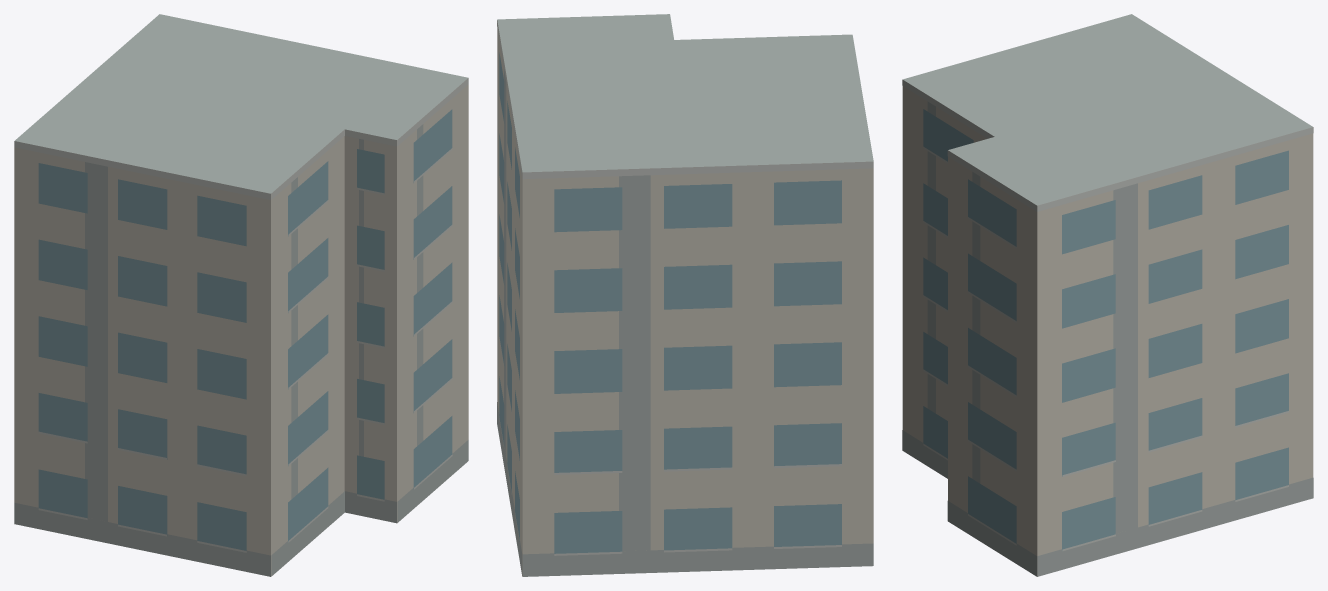
The model's file is survey-upis-32802304.glb.
3 renders of one model, left to right at view 1: azimuth 30°, elevation 25°; view 2: azimuth 150°, elevation 25°; view 3: azimuth 270°, elevation 25°, orthographic. The views are drawn at different scales.
Parts seen in each view (by area): view 1: survey-upis-32802304.tmp; view 2: survey-upis-32802304.tmp; view 3: survey-upis-32802304.tmp.
Part boxes in pixels (x1,y1,x2,y2): survey-upis-32802304.tmp: [14, 14, 468, 576]; survey-upis-32802304.tmp: [497, 14, 873, 576]; survey-upis-32802304.tmp: [902, 14, 1313, 576].
Bounding box in the file's own units: 16.01 × 14.45 × 14.51.
